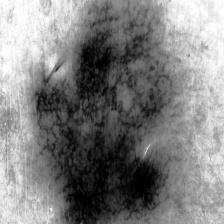Benign Marking or Mole: (34, 0, 175, 224)
